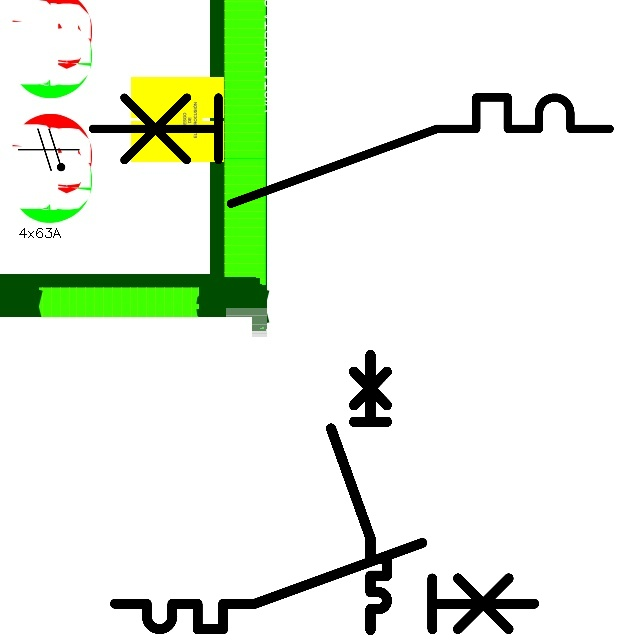interruptor_termomagnetico: (79, 84, 623, 217), (104, 532, 545, 640), (324, 348, 394, 637)
